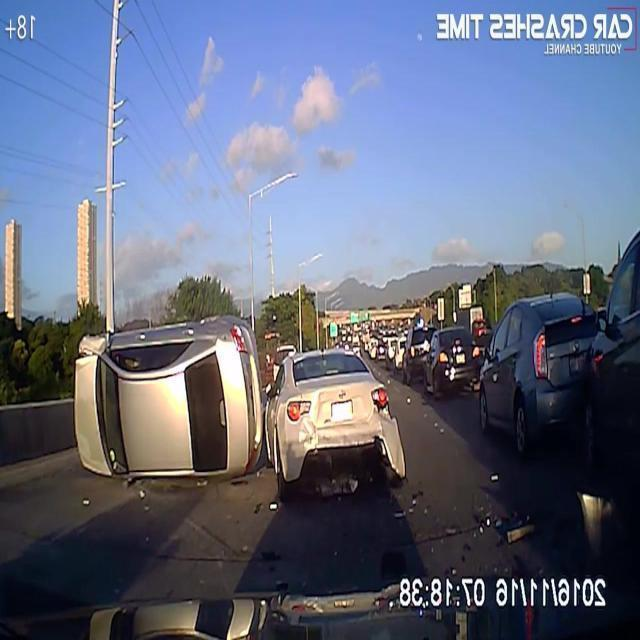multiple_accident: (71, 333, 410, 509)
